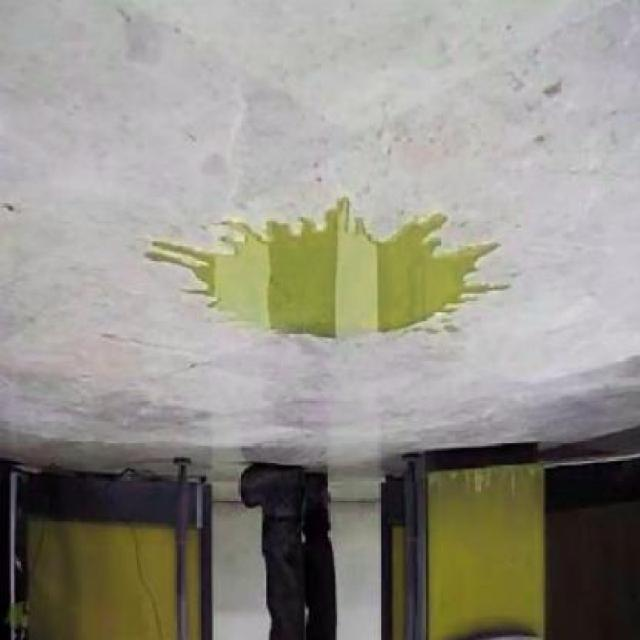spillage: (152, 198, 498, 337)
